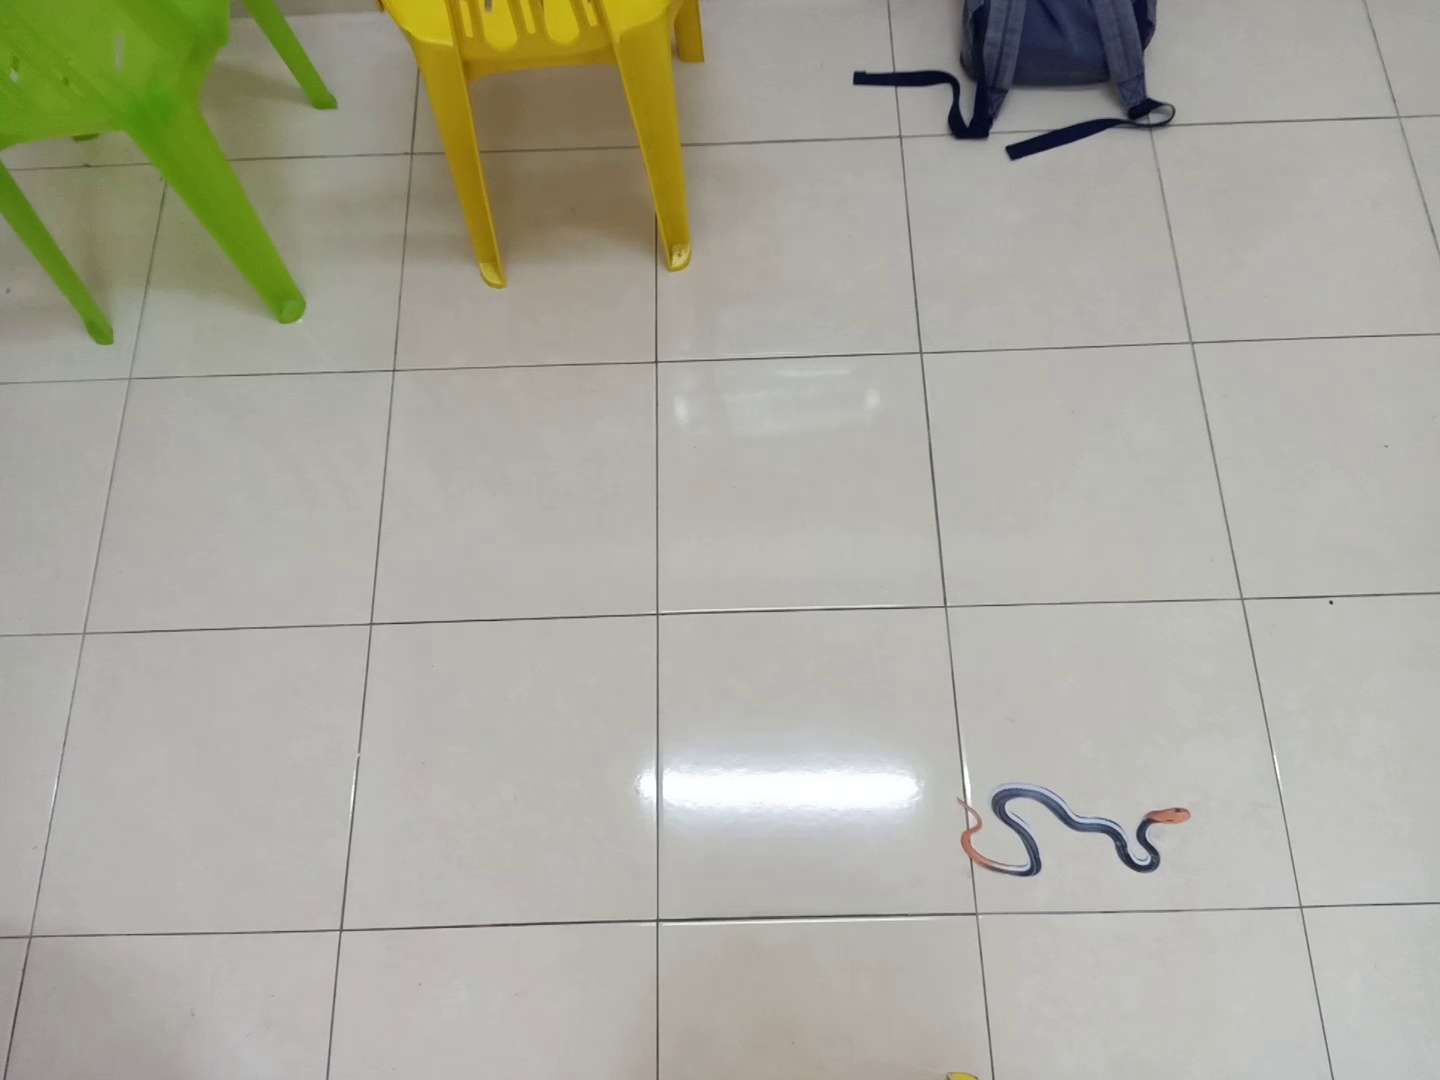snake: (954, 775, 1198, 881)
